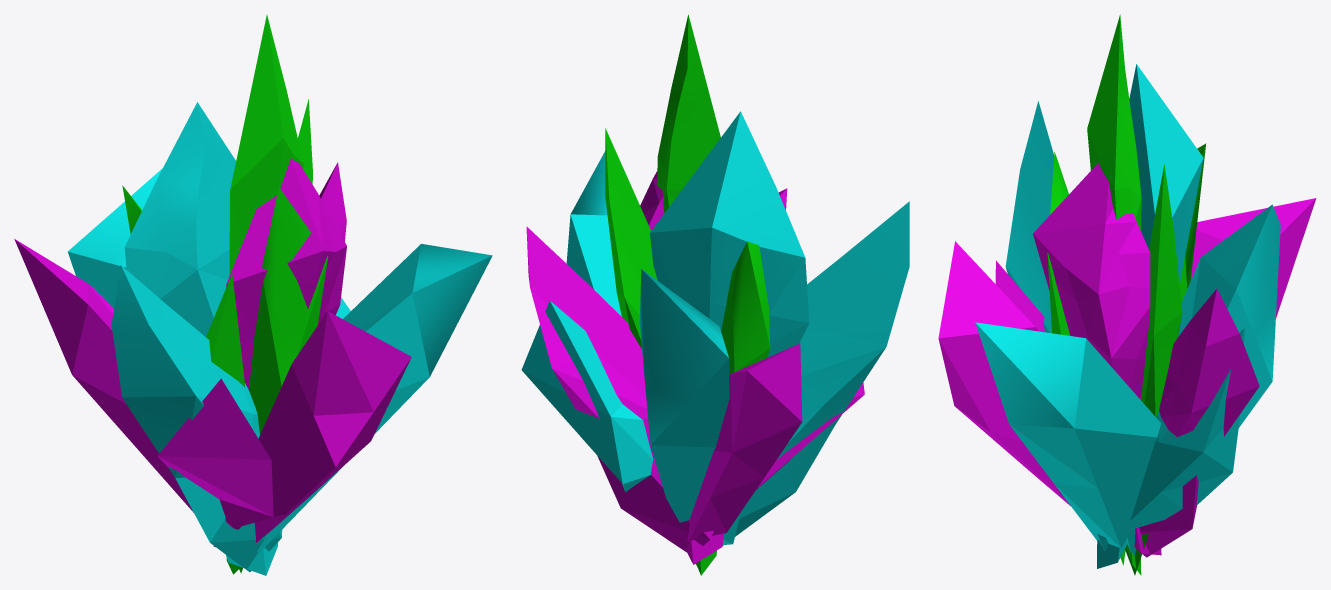
The model's file is rock_cristal.fbx.
The picture shows the model from 3 angles, left to right: view 1: azimuth 30°, elevation 25°; view 2: azimuth 150°, elevation 25°; view 3: azimuth 270°, elevation 25°; orthographic projection. The views are drawn at different scales.
Visible parts, largest first — view 1: CRISTAL2, CRISTAL, CRISTAL1; view 2: CRISTAL2, CRISTAL, CRISTAL1; view 3: CRISTAL2, CRISTAL, CRISTAL1.
Part boxes in pixels (bbox=[...]): CRISTAL2: bbox=[67, 102, 492, 575]; CRISTAL: bbox=[14, 158, 411, 546]; CRISTAL1: bbox=[122, 15, 328, 574]; CRISTAL2: bbox=[521, 111, 909, 545]; CRISTAL: bbox=[526, 171, 864, 564]; CRISTAL1: bbox=[605, 14, 770, 575]; CRISTAL2: bbox=[975, 64, 1280, 568]; CRISTAL: bbox=[938, 163, 1316, 557]; CRISTAL1: bbox=[1047, 14, 1206, 575].
Bounding box in the file's own units: 2.49 × 3.86 × 2.31.
